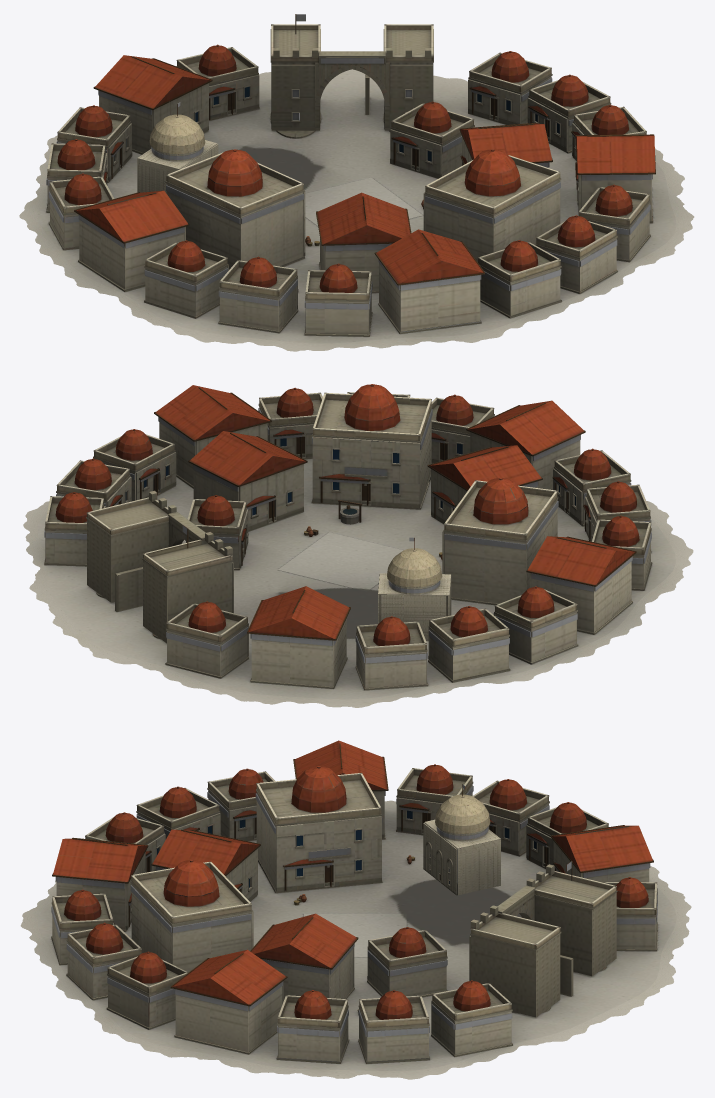
The model's file is gunpowder-town-big-a-israelite-0dfbf6a6.glb.
The picture shows the model from 3 angles, top to bottom: view 1: azimuth 30°, elevation 25°; view 2: azimuth 150°, elevation 25°; view 3: azimuth 270°, elevation 25°; orthographic projection.
Visible parts, largest first — view 1: LOD0; view 2: LOD0; view 3: LOD0.
Part boxes in pixels (<box>): LOD0: <box>19,14,694,351</box>; LOD0: <box>23,384,693,707</box>; LOD0: <box>20,740,691,1079</box>.
Size of what is drawn, in the model's own units: 7.9 by 1.36 by 8.01.
Materials: 3 (3 with a texture image).
